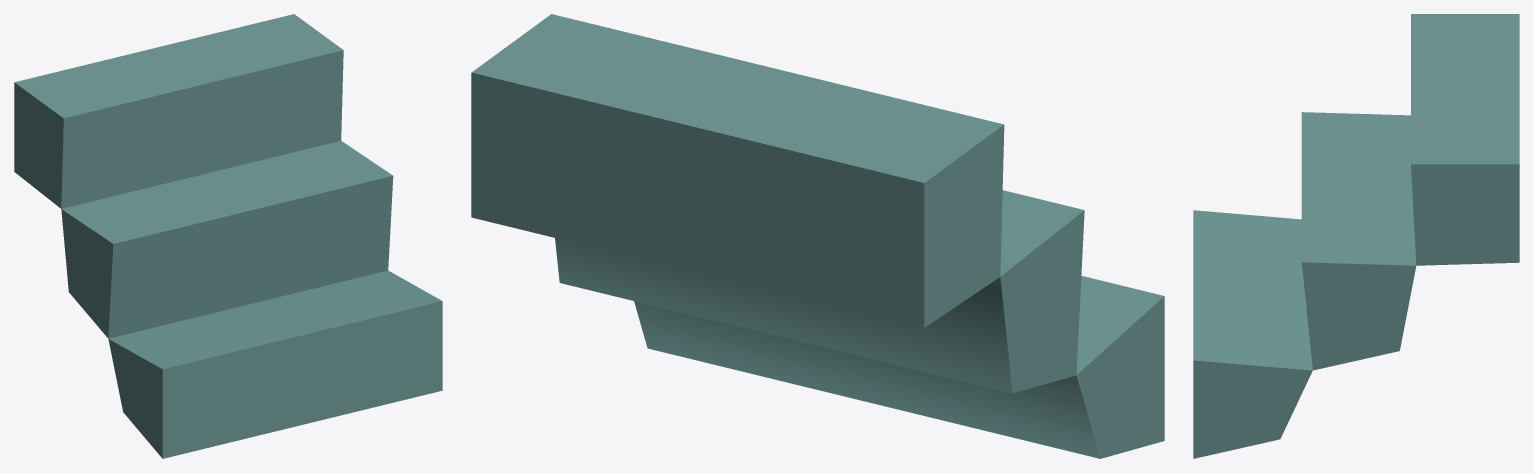
The model's file is pillarStairsModel.fbx.
The picture shows the model from 3 angles, left to right: view 1: azimuth 30°, elevation 25°; view 2: azimuth 150°, elevation 25°; view 3: azimuth 270°, elevation 25°; orthographic projection. The views are drawn at different scales.
Visible parts, largest first — view 1: stairsMesh; view 2: stairsMesh; view 3: stairsMesh.
Boxes of the visible parts, x1=… form: stairsMesh: x1=14, y1=14, x2=442, y2=458; stairsMesh: x1=471, y1=14, x2=1164, y2=458; stairsMesh: x1=1193, y1=14, x2=1519, y2=458.
Size of the model in its own units: 659 by 603 by 605.
Materials: 1 (1 with a texture image).
